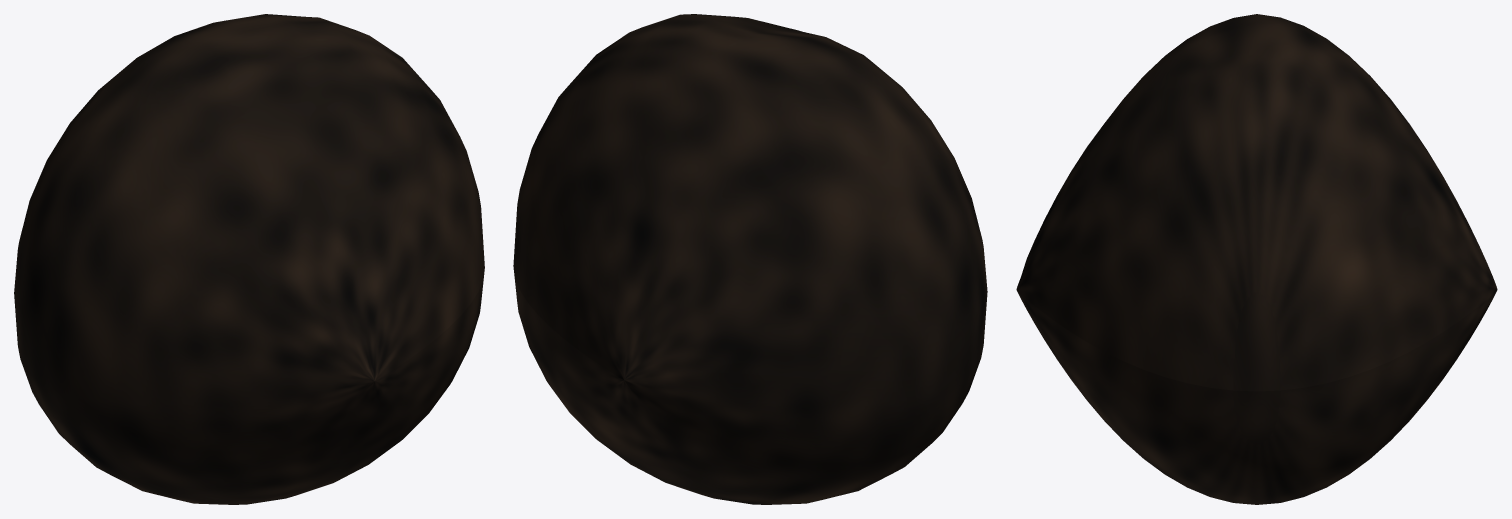
Rendered from Spinne_Cephalothorax.fbx.
The picture shows the model from 3 angles, left to right: view 1: azimuth 30°, elevation 25°; view 2: azimuth 150°, elevation 25°; view 3: azimuth 270°, elevation 25°; orthographic projection. The views are drawn at different scales.
Visible parts, largest first — view 1: Spinne_Cephalothorax; view 2: Spinne_Cephalothorax; view 3: Spinne_Cephalothorax.
Boxes of the visible parts, left/top/right/bottom form: Spinne_Cephalothorax: left=14, top=14, right=484, bottom=504; Spinne_Cephalothorax: left=513, top=14, right=987, bottom=504; Spinne_Cephalothorax: left=1016, top=14, right=1497, bottom=504.
Size of the model in its own units: 1 by 1 by 1.
